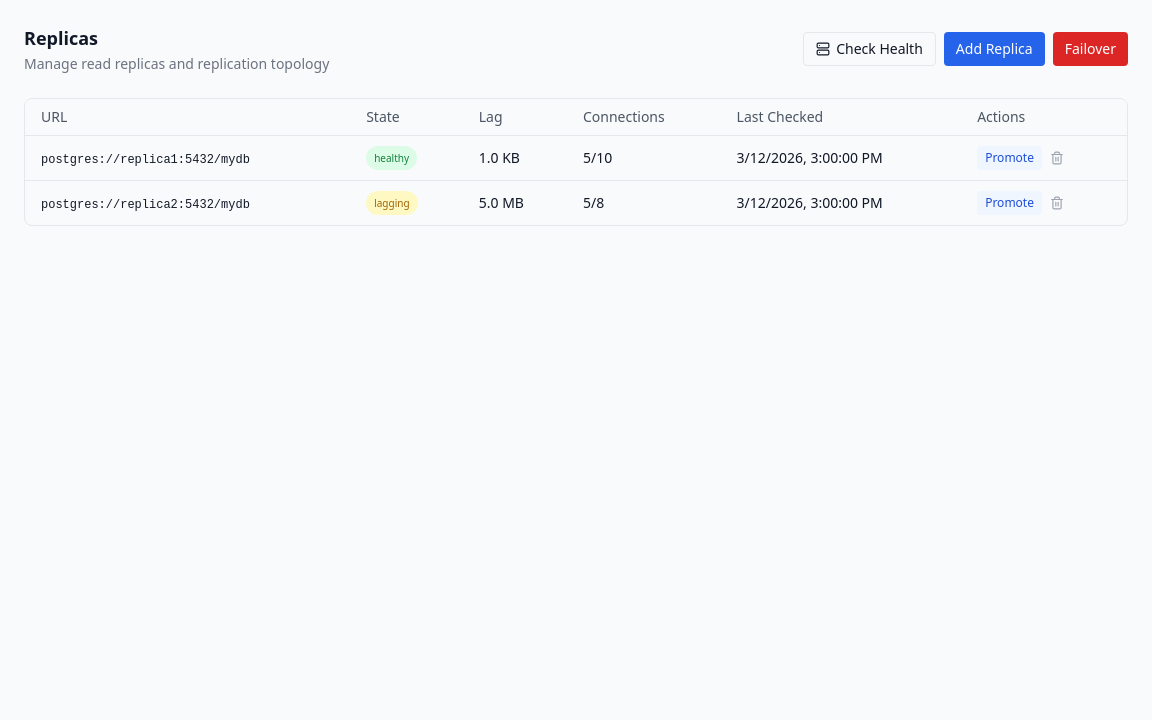
Test case: Replicas › shows confirm dialog for remove action
Expected: the text "postgres://replica1:5432/mydb" is shown, [41,153,250,167]
Step 1. Click the button named "Remove " → (1057,158), box [1046,146,1068,170]
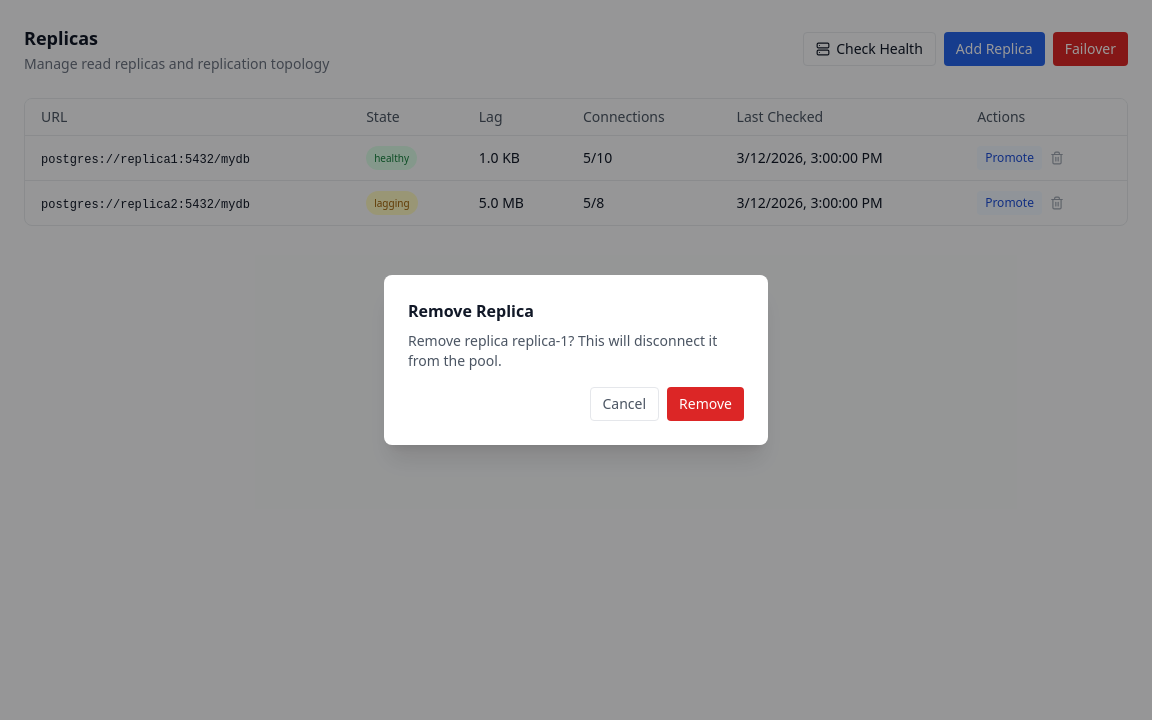
Result: the heading "Remove Replica" is shown at [408,300,534,322]
